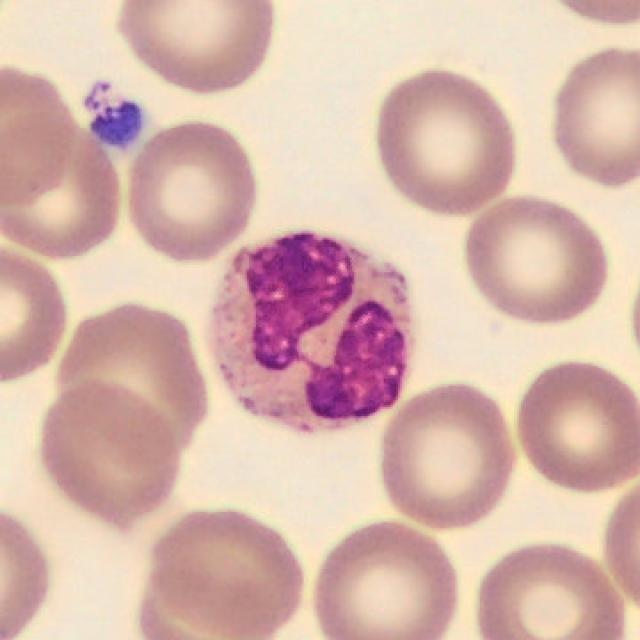Neutrofilo segmentado: (213, 233, 409, 430)
